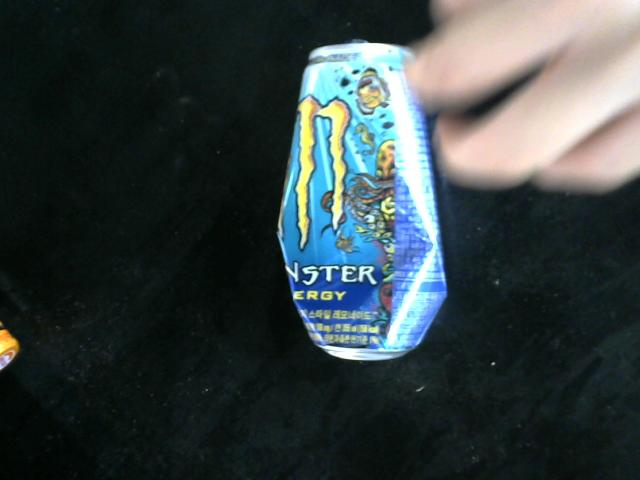can: (275, 33, 457, 365)
